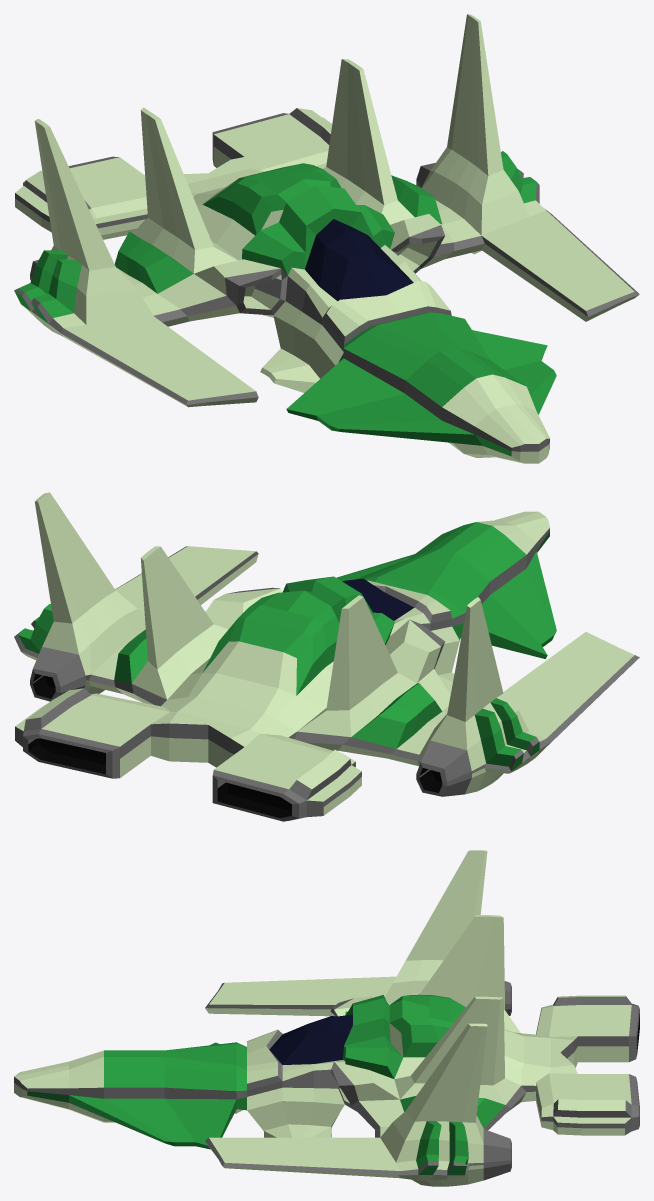
The model's file is Player.fbx.
3 views of the same model, one above another, from view 1: azimuth 30°, elevation 25°; view 2: azimuth 150°, elevation 25°; view 3: azimuth 270°, elevation 25° (orthographic). The views are drawn at different scales.
Parts seen in each view (by area): view 1: PlayerBaseShip; view 2: PlayerBaseShip; view 3: PlayerBaseShip.
Boxes of the visible parts, <box> form: PlayerBaseShip: <box>14,14,639,463</box>; PlayerBaseShip: <box>14,492,639,821</box>; PlayerBaseShip: <box>14,850,639,1186</box>.
Size of the model in its own units: 256 by 108 by 335.
